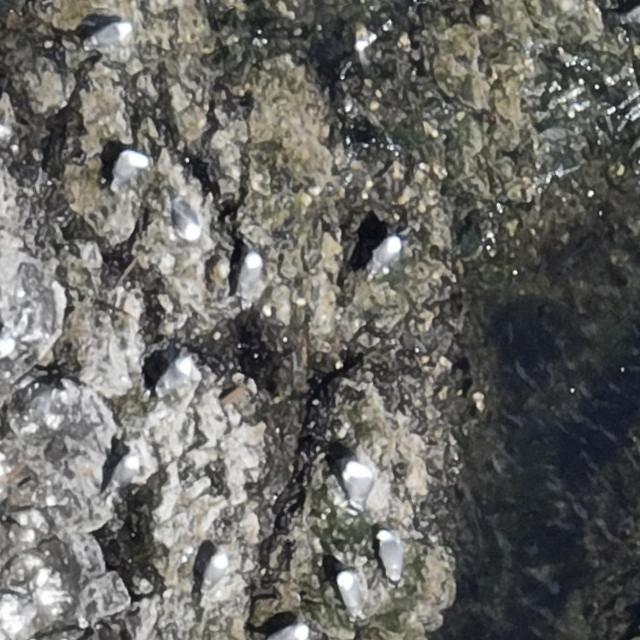umineko: (335, 460, 374, 510), (168, 195, 202, 247), (155, 359, 194, 401), (196, 547, 228, 595), (109, 455, 140, 499), (338, 569, 364, 620), (88, 21, 128, 45), (113, 151, 147, 178), (374, 235, 400, 266), (379, 535, 399, 575), (241, 252, 262, 290), (272, 625, 314, 639)
